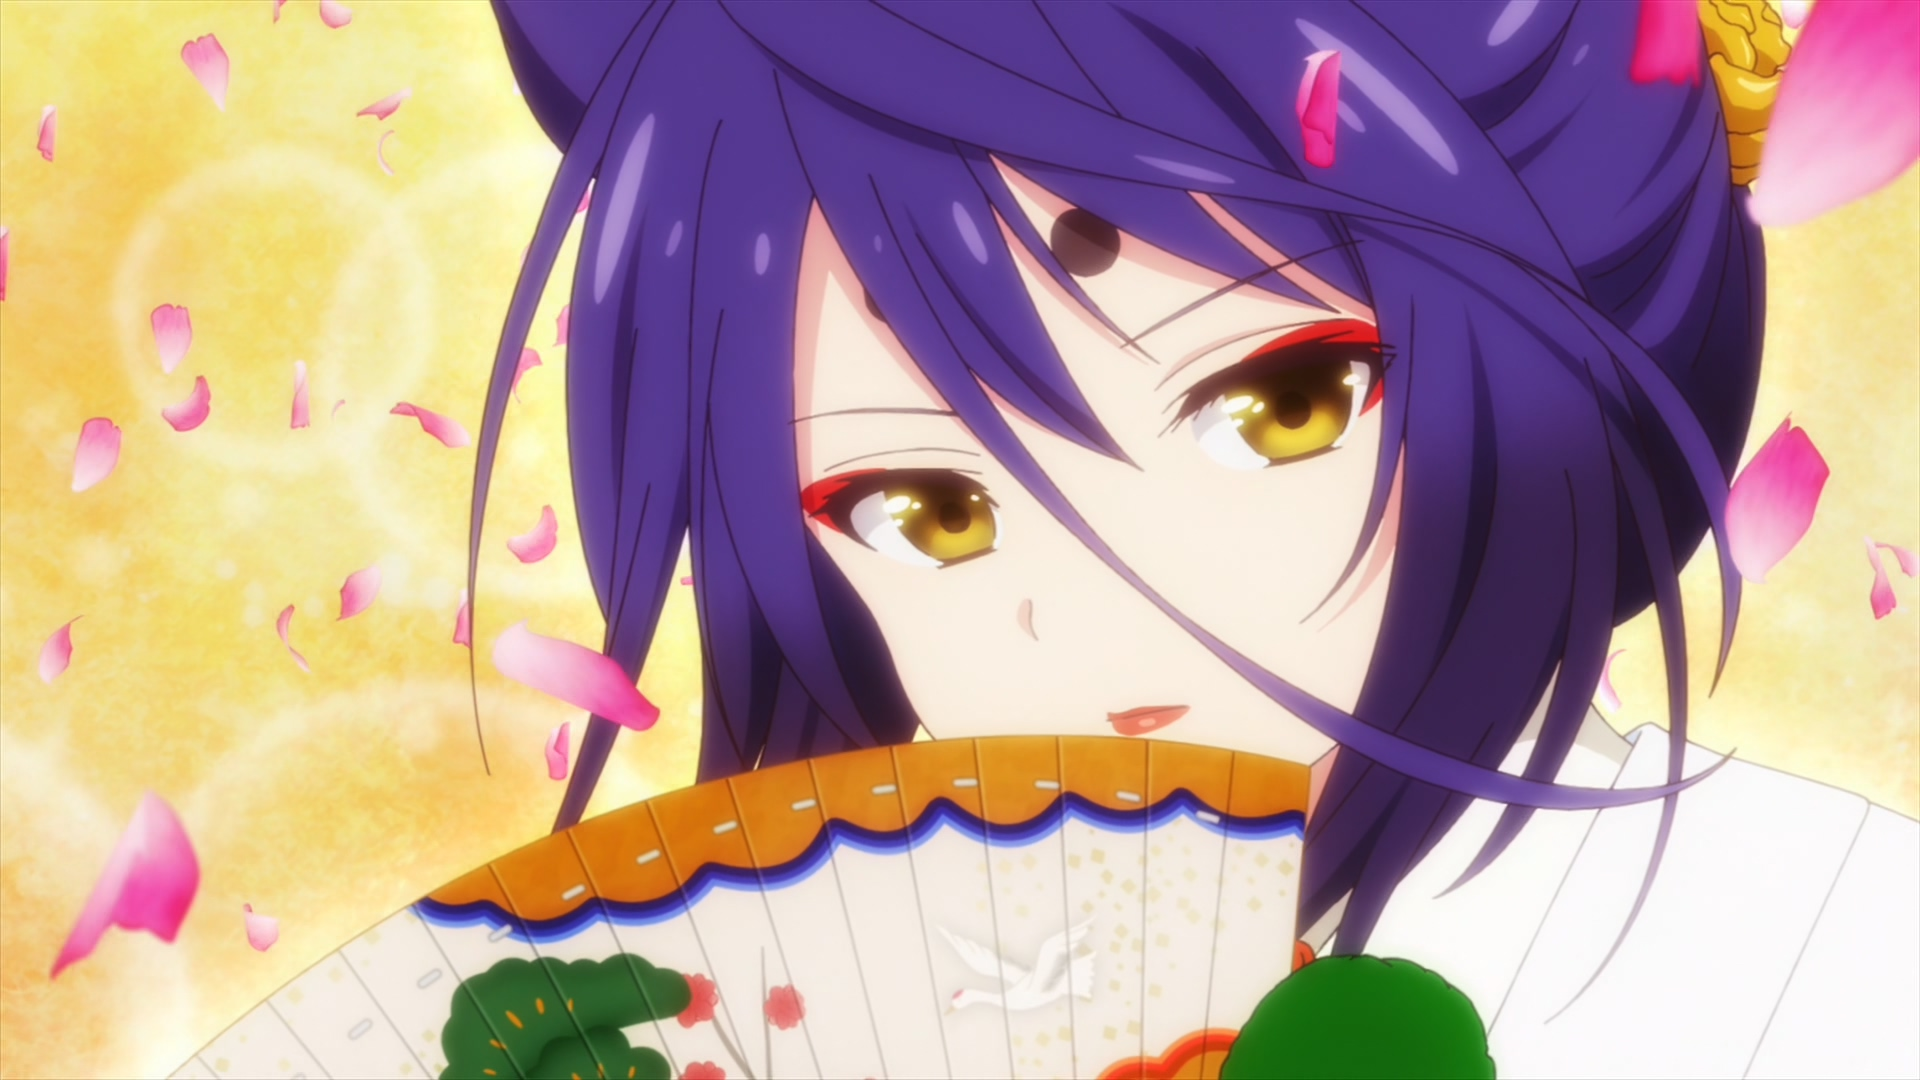皋: (467, 1, 1920, 1080)
